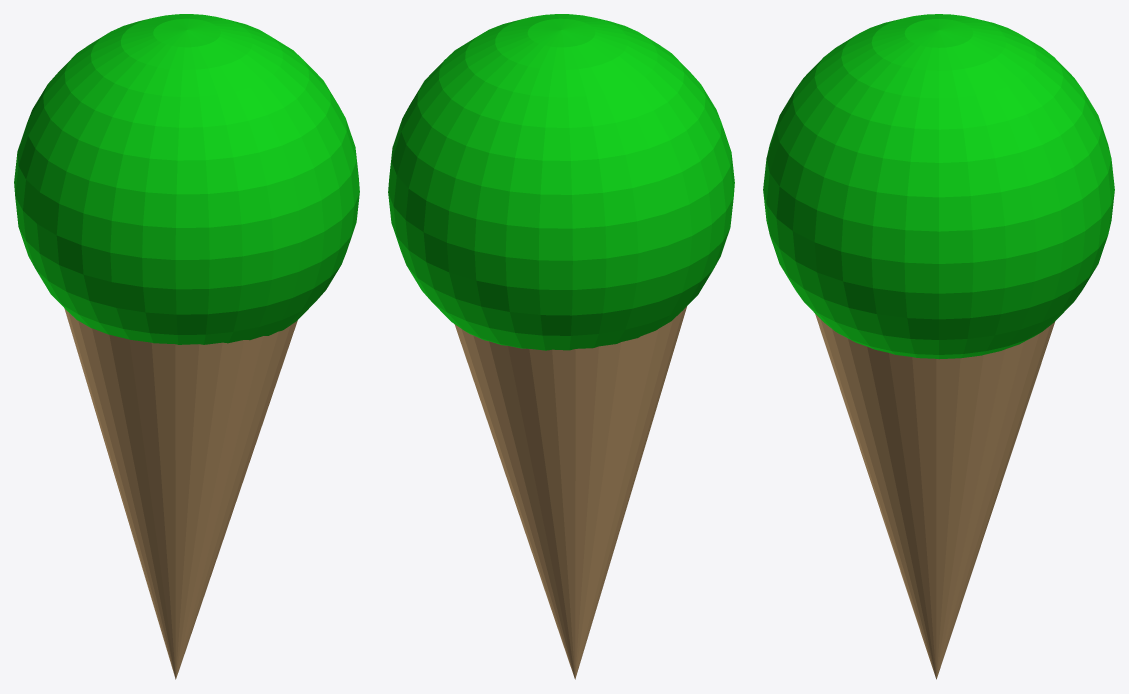
Rendered from TRY.fbx.
3 views of the same model, side by side, from view 1: azimuth 30°, elevation 25°; view 2: azimuth 150°, elevation 25°; view 3: azimuth 270°, elevation 25° (orthographic).
Visible parts, largest first — view 1: Sphere, Cone; view 2: Sphere, Cone; view 3: Sphere, Cone.
Part boxes in pixels (box(x1,y1,x2,y2)): Sphere: box(14, 14, 359, 344); Cone: box(64, 308, 297, 679); Sphere: box(388, 14, 734, 350); Cone: box(454, 306, 686, 679); Sphere: box(763, 14, 1114, 359); Cone: box(815, 314, 1055, 679).
Bounding box in the file's own units: 259 × 533 × 259.
